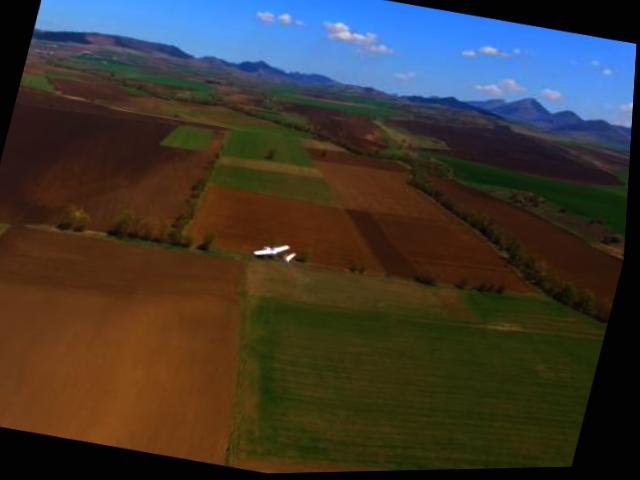uav: (250, 230, 309, 275)
